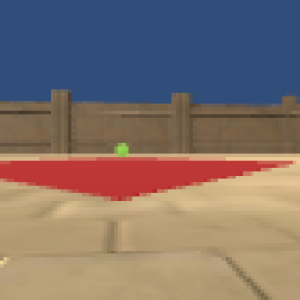deathZone: (1, 158, 296, 204)
goodGoal: (112, 141, 131, 158)
